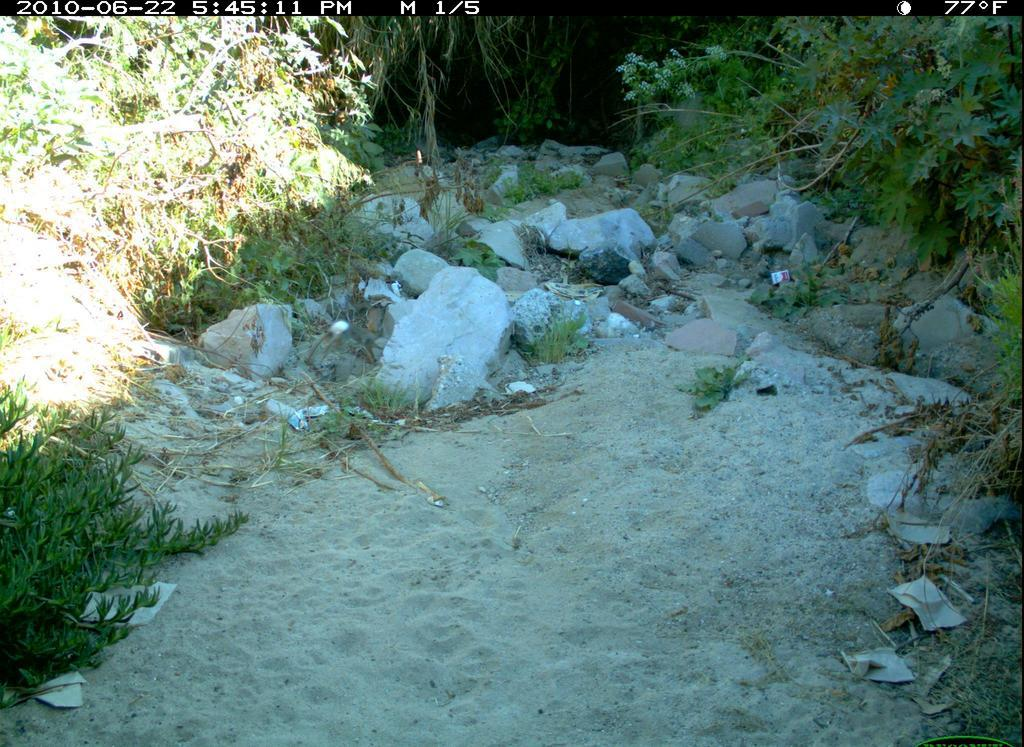rabbit: (300, 303, 396, 373)
